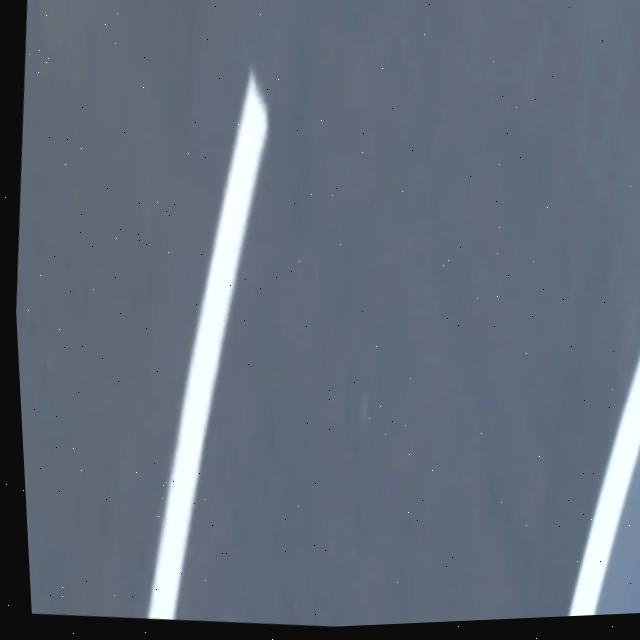center: (148, 69, 268, 619)
left: (570, 359, 640, 616)
